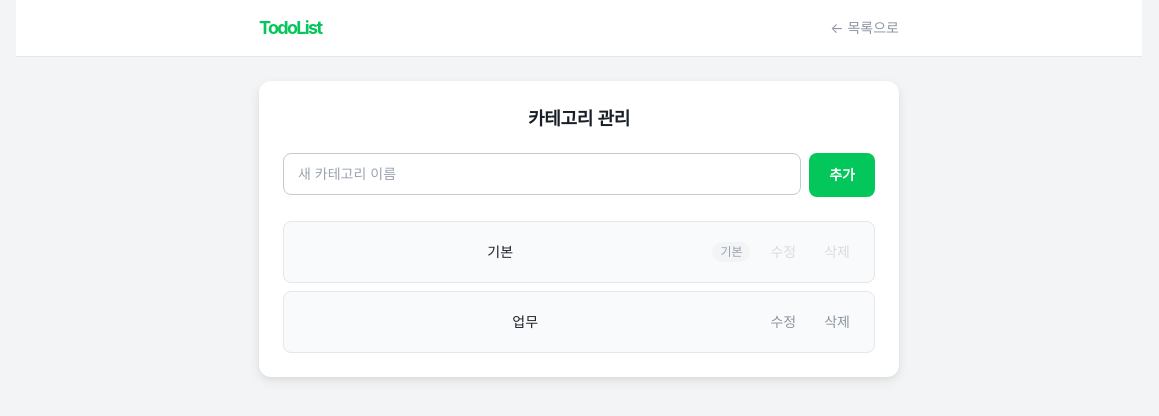
CategoryPage › 카테고리 추가 › 이름 빈 채로 추가 시 에러 메시지를 표시한다
Expected: the text "업무" is shown, [512, 313, 538, 330]
Click the button "추가".
click(842, 175)  # box [809, 153, 875, 197]
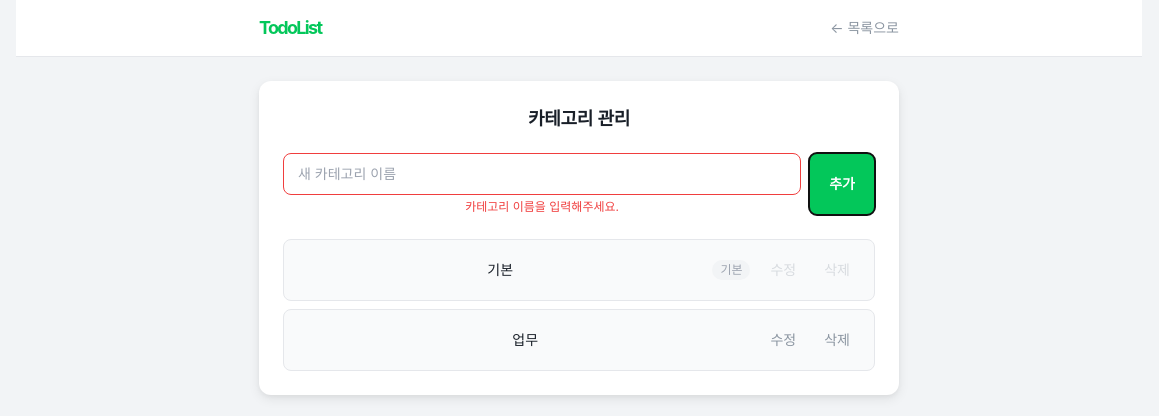
Expected: the text "카테고리 이름을 입력해주세요." is shown, [465, 199, 619, 214]
